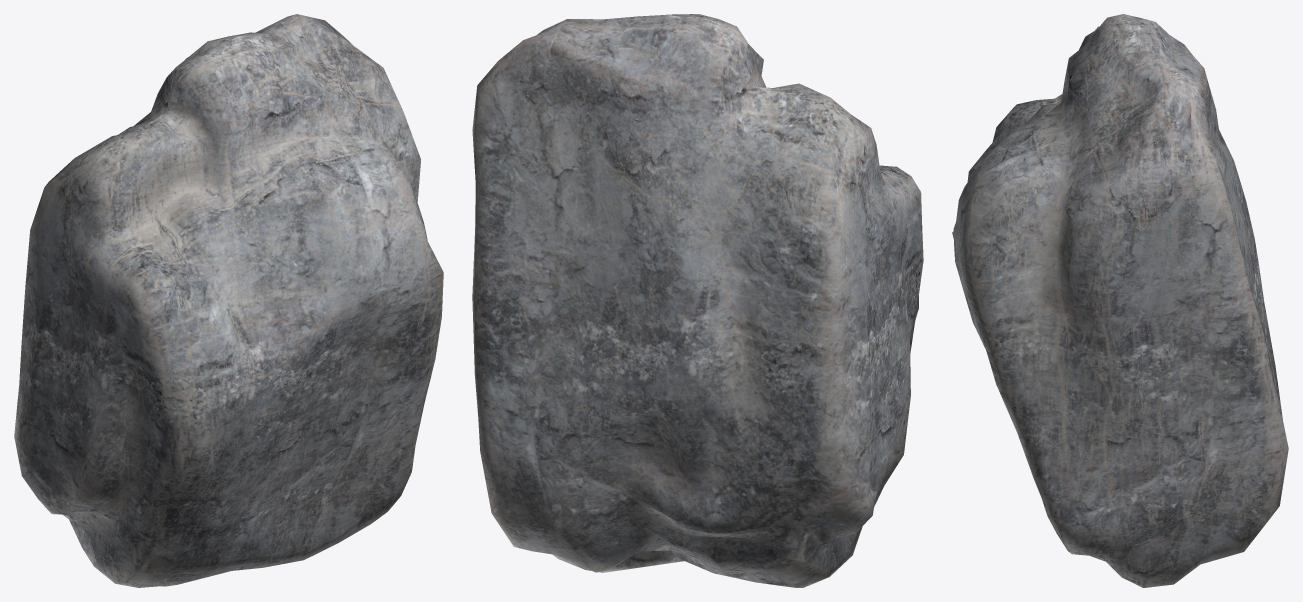
File: Rock1.glb
3 renders of one model, left to right at view 1: azimuth 30°, elevation 25°; view 2: azimuth 150°, elevation 25°; view 3: azimuth 270°, elevation 25°, orthographic. The views are drawn at different scales.
Parts seen in each view (by area): view 1: Rock_1; view 2: Rock_1; view 3: Rock_1.
Part boxes in pixels (box(x1,y1,x2,y2)): Rock_1: box(14, 14, 443, 587); Rock_1: box(472, 14, 923, 587); Rock_1: box(952, 14, 1288, 587).
Size of the model in its own units: 4.08 by 5.8 by 3.34.
1 material, 1 textured.
